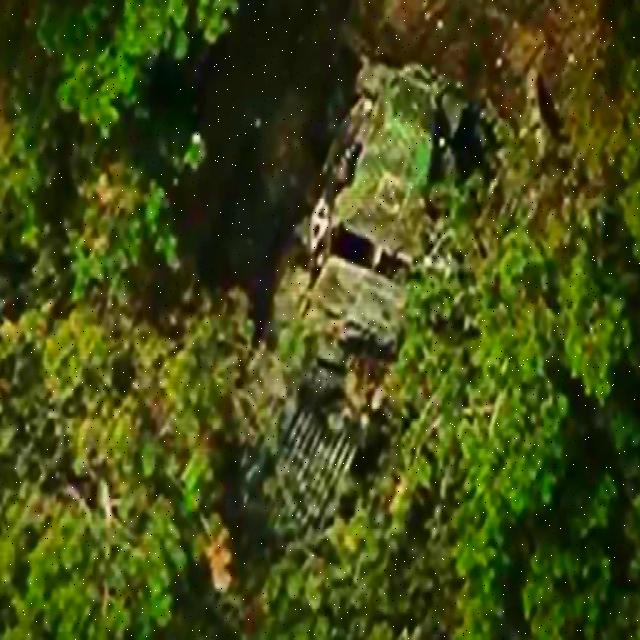MLRS: (205, 58, 470, 592)
